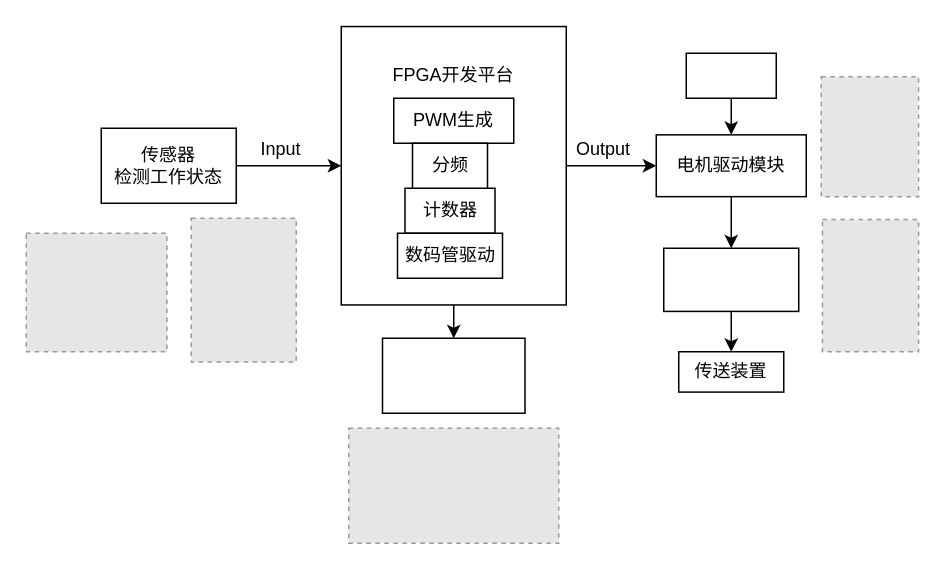
Some shapes in this 945 by 570 pixel diagram are drawn without their labels. Grey dashed boxes stand in for pictures. Each missing label, with the box of its shape:
数码管 单流程倒计时: (381, 337, 525, 413)
步进电机 正常驱动: (662, 247, 799, 311)
电源: (685, 52, 776, 98)
